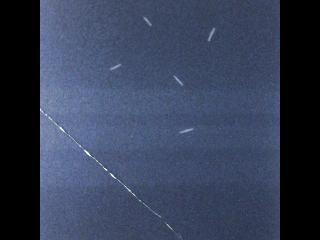crack: (40, 108, 183, 240)
scratch: (139, 13, 155, 28), (109, 60, 125, 72), (177, 126, 196, 135), (207, 25, 217, 41), (172, 75, 184, 87)
